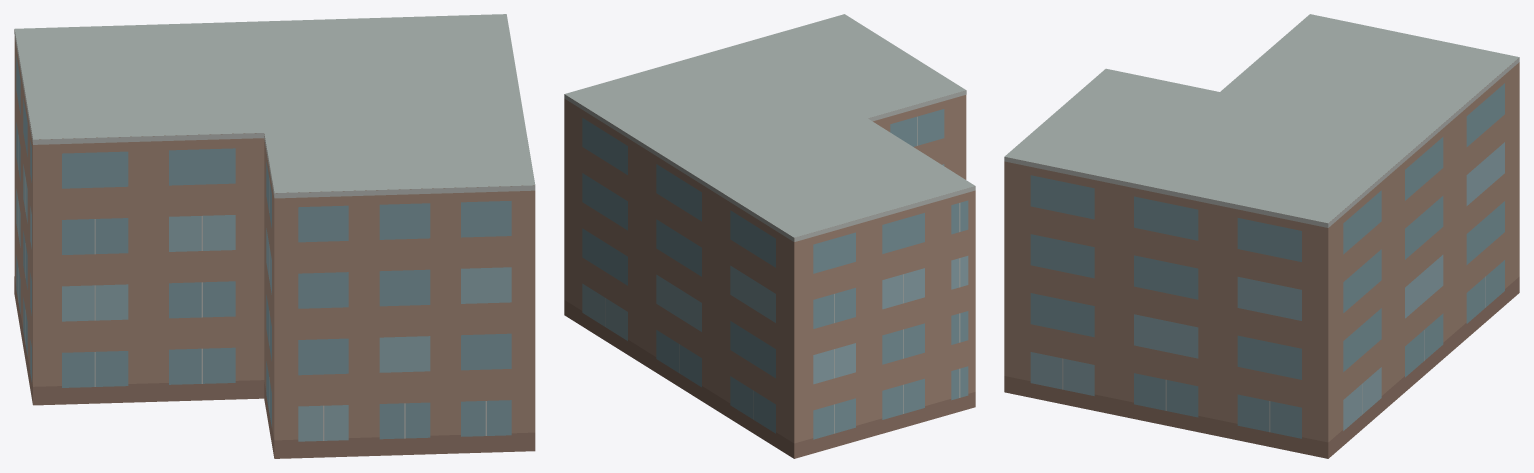
Rendered from residential-d6071b91-666a-4b82-8f81-6a9de4bc2f09.glb.
3 views of the same model, side by side, from view 1: azimuth 30°, elevation 25°; view 2: azimuth 150°, elevation 25°; view 3: azimuth 270°, elevation 25° (orthographic). The views are drawn at different scales.
Parts seen in each view (by area): view 1: residential-d6071b91-666a-4b82-8f81-6a9de4bc2f09.tmp; view 2: residential-d6071b91-666a-4b82-8f81-6a9de4bc2f09.tmp; view 3: residential-d6071b91-666a-4b82-8f81-6a9de4bc2f09.tmp.
Boxes of the visible parts, x1,y1,x2,y2 form: residential-d6071b91-666a-4b82-8f81-6a9de4bc2f09.tmp: (14,14,535,458); residential-d6071b91-666a-4b82-8f81-6a9de4bc2f09.tmp: (564,14,975,458); residential-d6071b91-666a-4b82-8f81-6a9de4bc2f09.tmp: (1004,14,1519,458).
Bounding box in the file's own units: 23.26 × 12.2 × 24.2.
